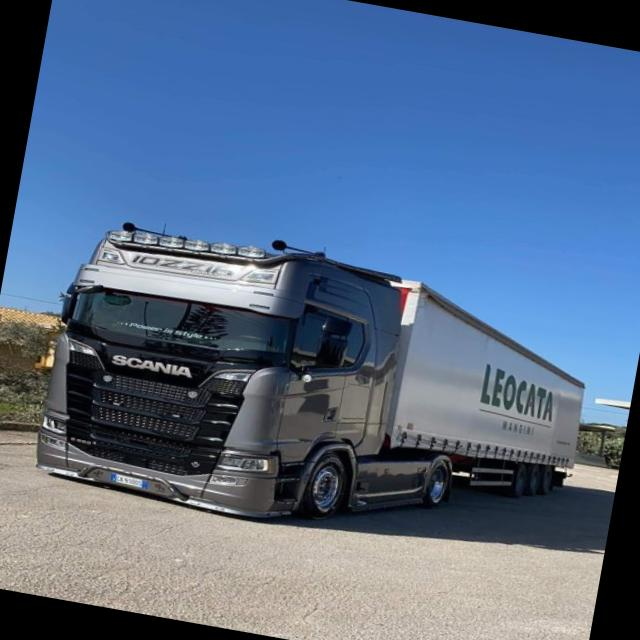asphalt: (0, 447, 617, 640)
cement: (0, 420, 37, 445)
